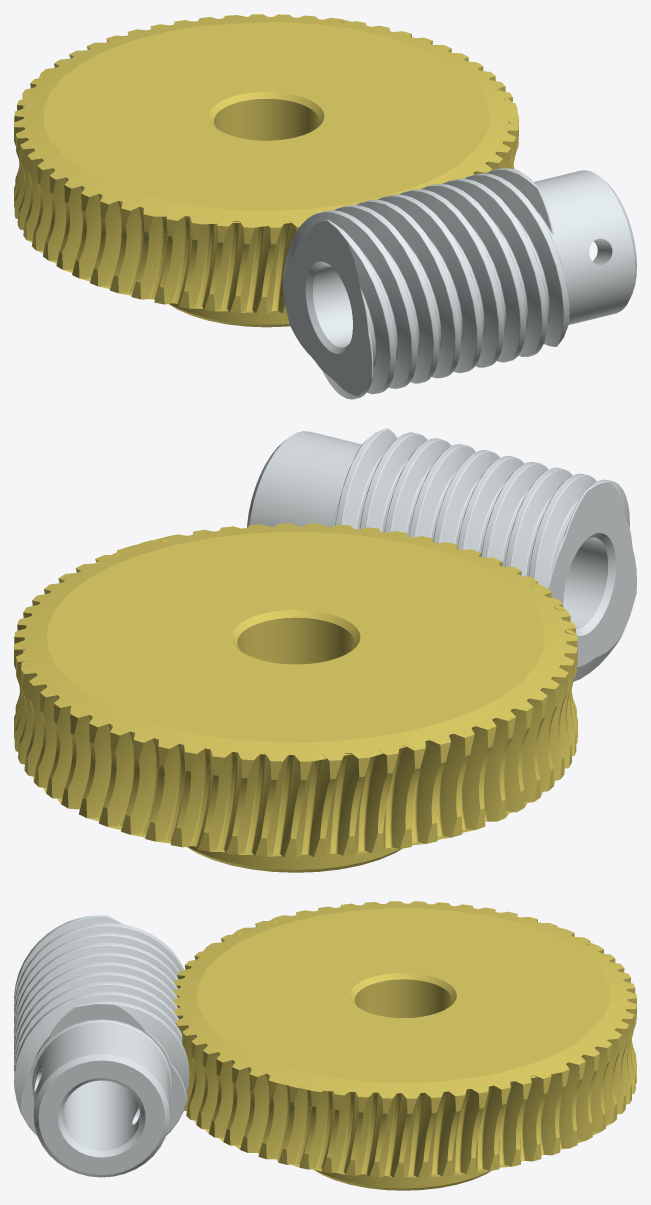
The model's file is worm gear assembly 1.fbx.
3 views of the same model, one above another, from view 1: azimuth 30°, elevation 25°; view 2: azimuth 150°, elevation 25°; view 3: azimuth 270°, elevation 25° (orthographic). The views are drawn at different scales.
Parts seen in each view (by area): view 1: Mesh_1, Mesh_0; view 2: Mesh_1, Mesh_0; view 3: Mesh_1, Mesh_0.
Part boxes in pixels (x1,y1,x2,y2): Mesh_1: (14, 14, 518, 327); Mesh_0: (282, 168, 636, 399); Mesh_1: (14, 523, 577, 872); Mesh_0: (247, 428, 636, 681); Mesh_1: (172, 901, 636, 1190); Mesh_0: (14, 915, 189, 1177).
Size of the model in its own units: 4.8 by 2.1 by 6.4.
